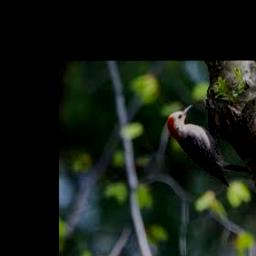Woodpecker: (168, 103, 250, 186)
